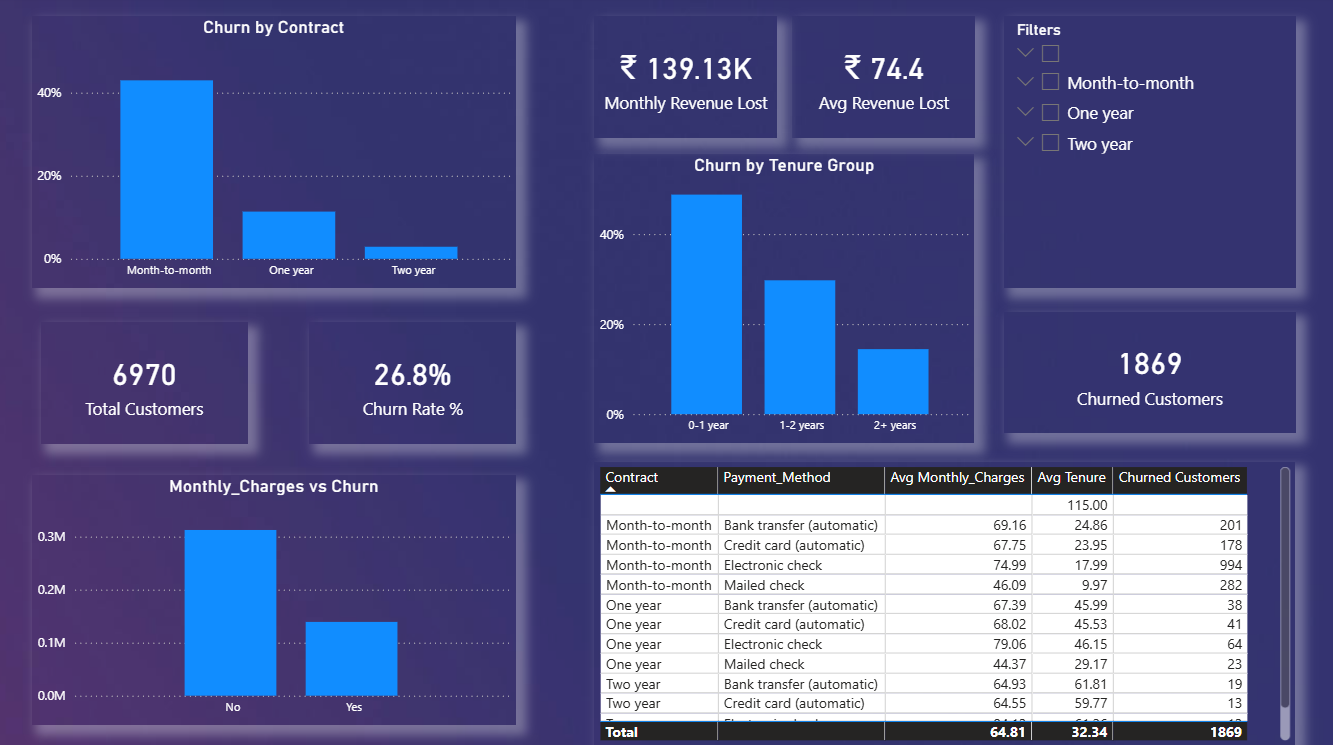

The page's visual inventory and layout, read from the dashboard file:
{"tool":"powerbi","page":{"name":"Churn","canvas":[1280,720],"ordinal":0},"visuals":[{"type":"clusteredColumnChart","title":"Churn by Contract","fields":{"Category":["customers.Contract"],"Y":["customers.Churn Rate %"]},"box":[33.3,19.7,414.9,260.4],"z":0},{"type":"clusteredColumnChart","title":"Churn by Tenure Group","fields":{"Category":["customers.Tenure Group"],"Y":["customers.Churn Rate %"]},"box":[572.4,152.9,364.9,277.1],"z":1000},{"type":"clusteredColumnChart","title":"Monthly_Charges vs Churn","fields":{"Category":["customers.Churn"],"Y":["Sum(customers.Monthly_Charges)"]},"box":[33.3,460.3,472.4,239.2],"z":2000},{"type":"tableEx","fields":{"Values":["customers.Contract","customers.Payment_Method","Avg(customers.Monthly_Charges)","Avg(customers.Tenure)","customers.Churned Customers"]},"box":[572.4,446.7,672.3,272.6],"z":3000},{"type":"slicer","fields":{"Values":["customers.Contract","customers.Internet Service","customers.Payment_Method","customers.Tenure Group"]},"box":[964.5,19.7,280.1,260.4],"z":4000},{"type":"card","fields":{"Values":["customers.Total Customers"]},"box":[42.4,313.4,215,116.6],"z":5000},{"type":"card","fields":{"Values":["customers.Churned Customers"]},"box":[997.9,302.8,215,116.6],"z":6000},{"type":"card","fields":{"Values":["customers.Churn Rate %"]},"box":[290.7,313.4,215,116.6],"z":7000},{"type":"card","fields":{"Values":["customers.Monthly Revenue Lost"]},"box":[487.6,19.7,215,116.6],"z":8000},{"type":"card","fields":{"Values":["customers.Avg Revenue Lost per Customer"]},"box":[722.3,19.7,215,116.6],"z":9000}]}

Visuals, with their boxes in screenshot pixels (x1, y1, x2, y2), scaled from the page's 1280x720 canvas onto the 1333x745 screenshot:
"Churn by Contract" clusteredColumnChart: <box>35,20,467,290</box>
"Churn by Tenure Group" clusteredColumnChart: <box>596,158,976,445</box>
"Monthly_Charges vs Churn" clusteredColumnChart: <box>35,476,527,724</box>
tableEx - customers.Contract x customers.Payment_Method: <box>596,462,1296,744</box>
slicer - customers.Contract x customers.Internet Service: <box>1004,20,1296,290</box>
card - customers.Total Customers: <box>44,324,268,445</box>
card - customers.Churned Customers: <box>1039,313,1263,434</box>
card - customers.Churn Rate %: <box>303,324,527,445</box>
card - customers.Monthly Revenue Lost: <box>508,20,732,141</box>
card - customers.Avg Revenue Lost per Customer: <box>752,20,976,141</box>
